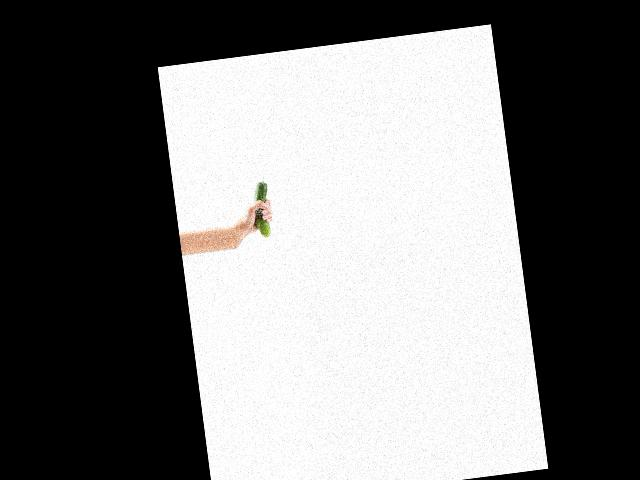cucumber: (250, 180, 274, 238)
